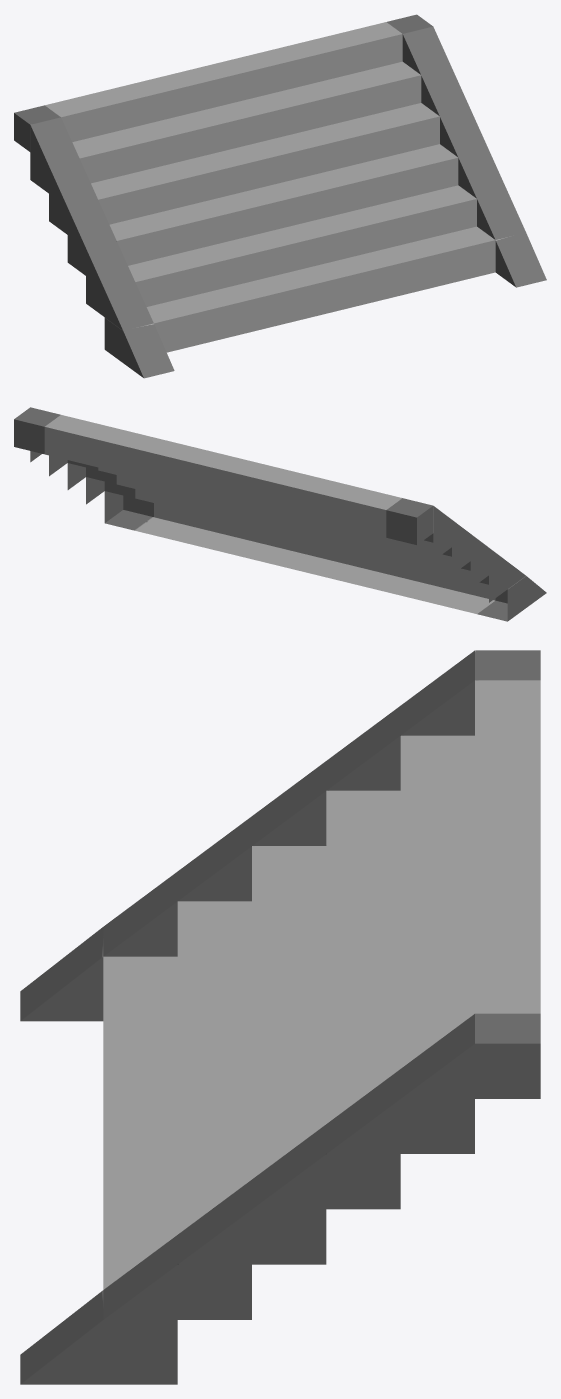
The model's file is Stairs.fbx.
3 renders of one model, top to bottom at view 1: azimuth 30°, elevation 25°; view 2: azimuth 150°, elevation 25°; view 3: azimuth 270°, elevation 25°, orthographic. The views are drawn at different scales.
Parts seen in each view (by area): view 1: Cube.049; view 2: Cube.049; view 3: Cube.049.
Part boxes in pixels (box(x1,y1,x2,y2)): Cube.049: box(14, 14, 546, 378); Cube.049: box(14, 407, 546, 621); Cube.049: box(20, 650, 540, 1384).
Size of the model in its own units: 4853 by 1962 by 2713.
1 material, 1 textured.
